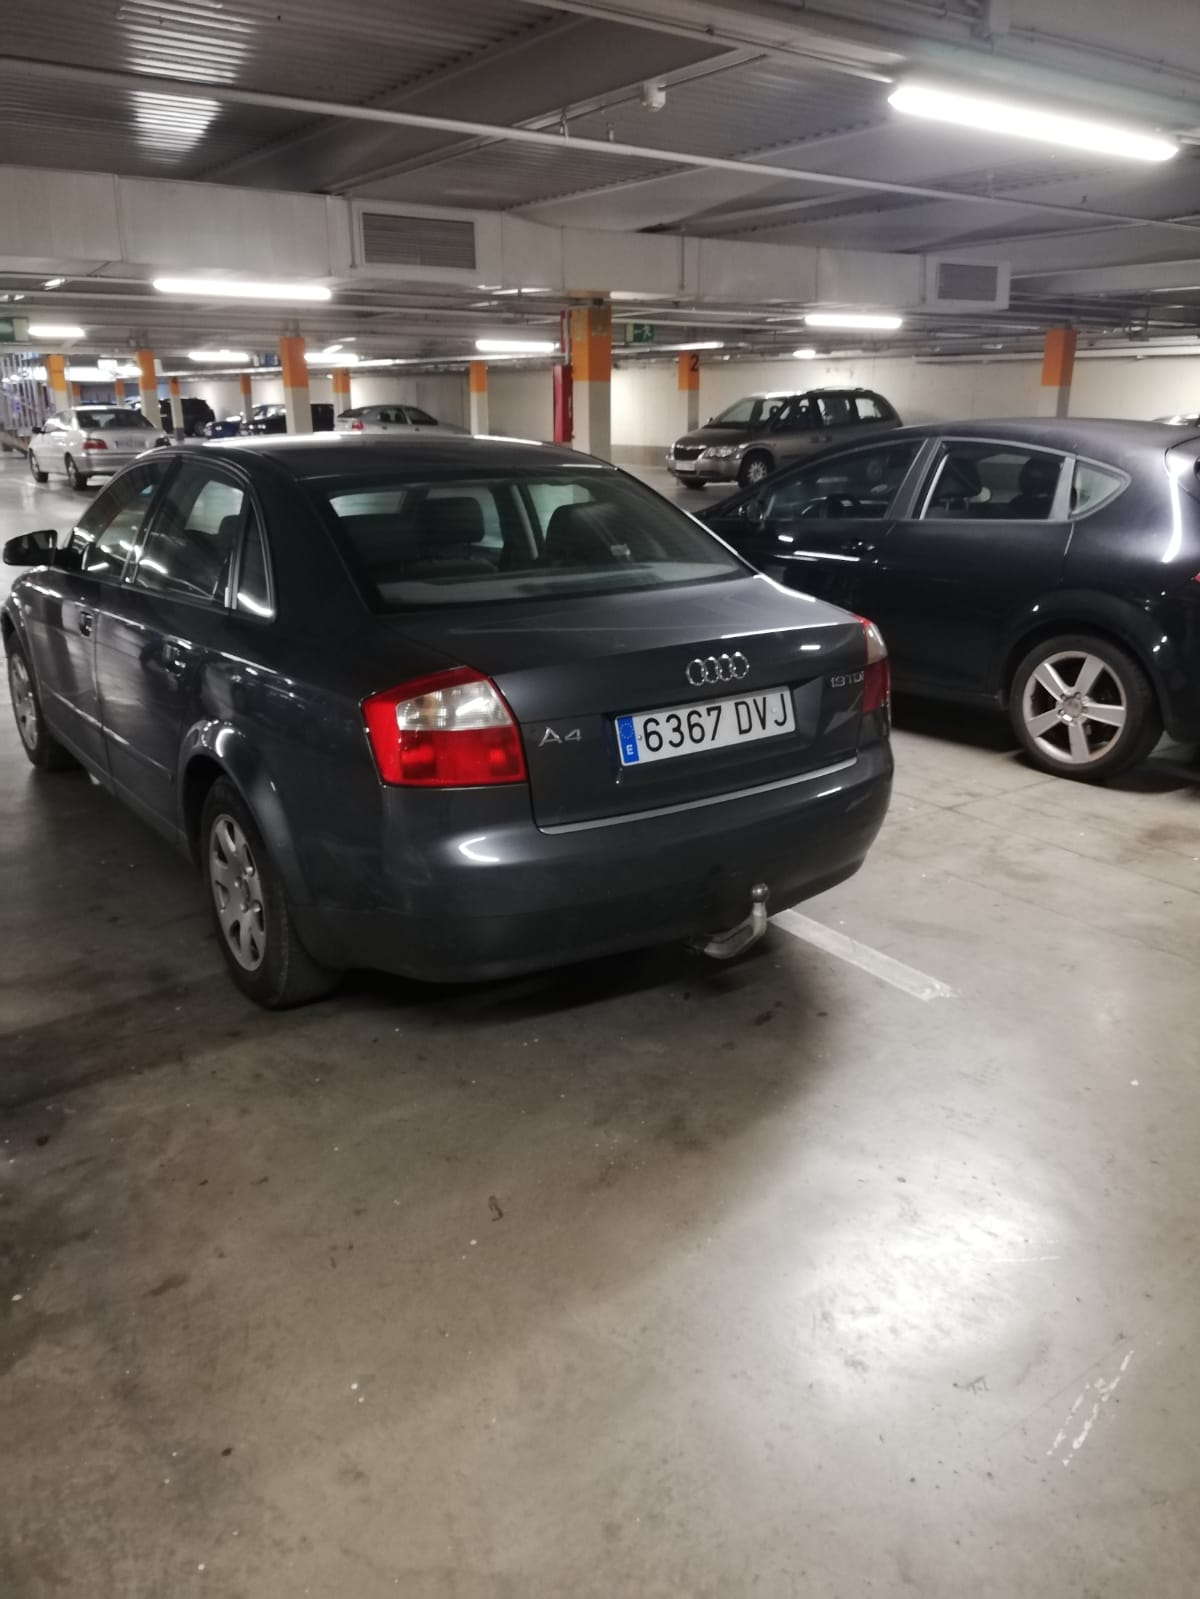Car: (0, 428, 893, 976)
Plate: (615, 717, 797, 766)
